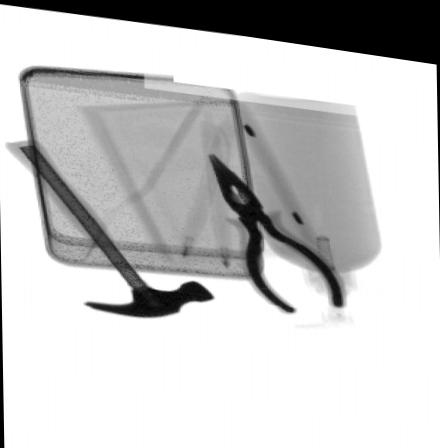Hammer: (1, 136, 215, 314)
Pliers: (209, 145, 347, 306)
